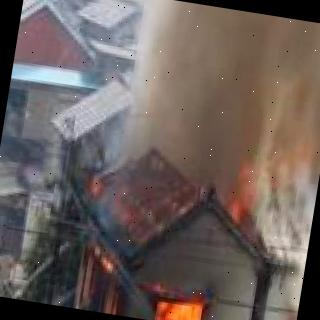fire: (64, 229, 279, 320), (288, 312, 298, 320)
